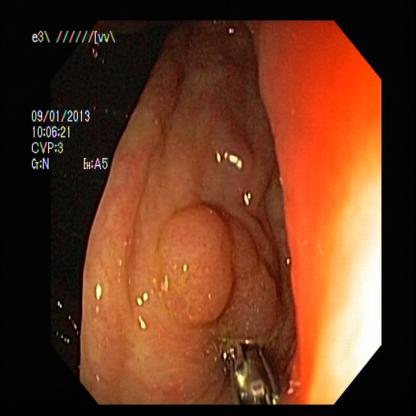Labels: (27, 25, 121, 180)
Polyps: (160, 201, 237, 330)
